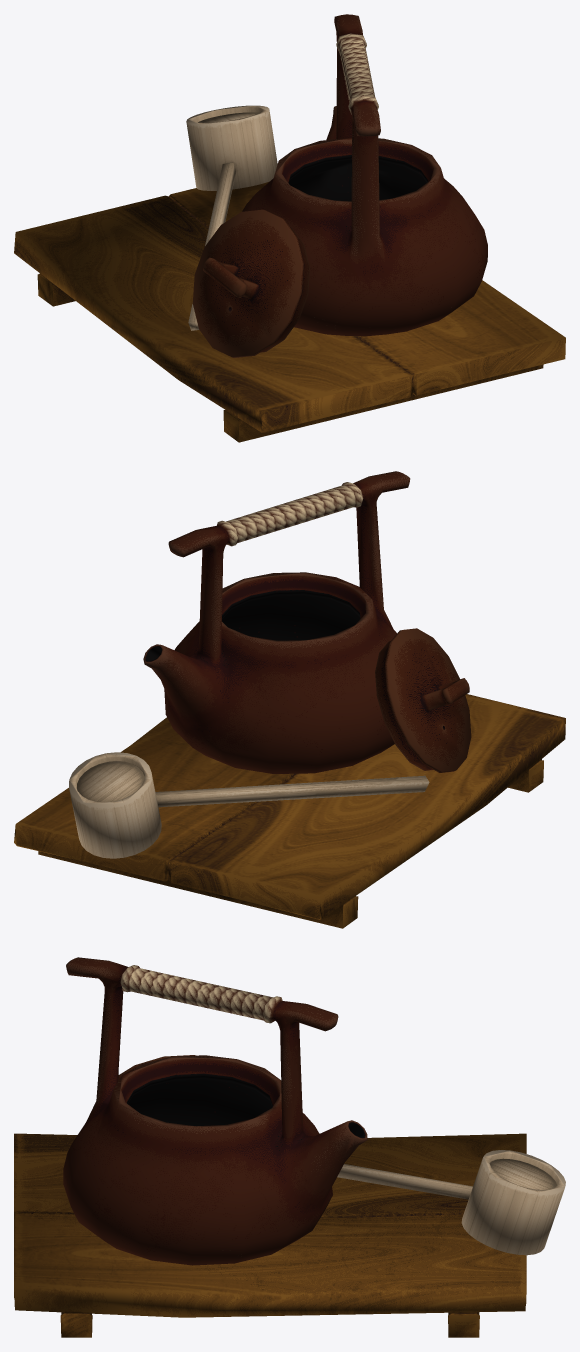
File: TEAPOT.gltf
3 views of the same model, one above another, from view 1: azimuth 30°, elevation 25°; view 2: azimuth 150°, elevation 25°; view 3: azimuth 270°, elevation 25° (orthographic). The views are drawn at different scales.
Visible parts, largest first — view 1: Object_3, Object_5, Object_2, Object_4; view 2: Object_3, Object_5, Object_4, Object_2; view 3: Object_5, Object_3, Object_4.
Part boxes in pixels (x1,y1,x2,y2): Object_3: (14, 181, 565, 442); Object_5: (242, 14, 487, 336); Object_2: (192, 209, 310, 357); Object_4: (186, 105, 277, 330); Object_3: (14, 694, 565, 928); Object_5: (143, 471, 410, 773); Object_4: (69, 752, 429, 858); Object_2: (375, 628, 471, 772); Object_5: (63, 957, 367, 1265); Object_3: (14, 1133, 526, 1337); Object_4: (337, 1150, 565, 1255).
Bounding box in the file's own units: 2.56 × 2.24 × 3.79.
Materials: 4 (4 with a texture image).
